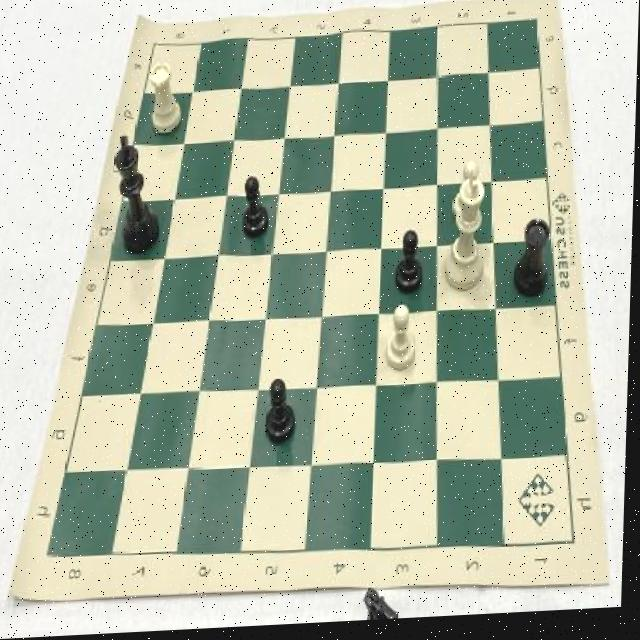black-bishop: (110, 125, 168, 266)
black-knight: (262, 372, 307, 456), (237, 162, 278, 252), (391, 219, 431, 305)
black-queen: (509, 209, 566, 308)
white-bishop: (441, 173, 502, 303)
white-knight: (378, 306, 422, 383), (447, 161, 490, 236)
white-queen: (146, 57, 189, 147)
